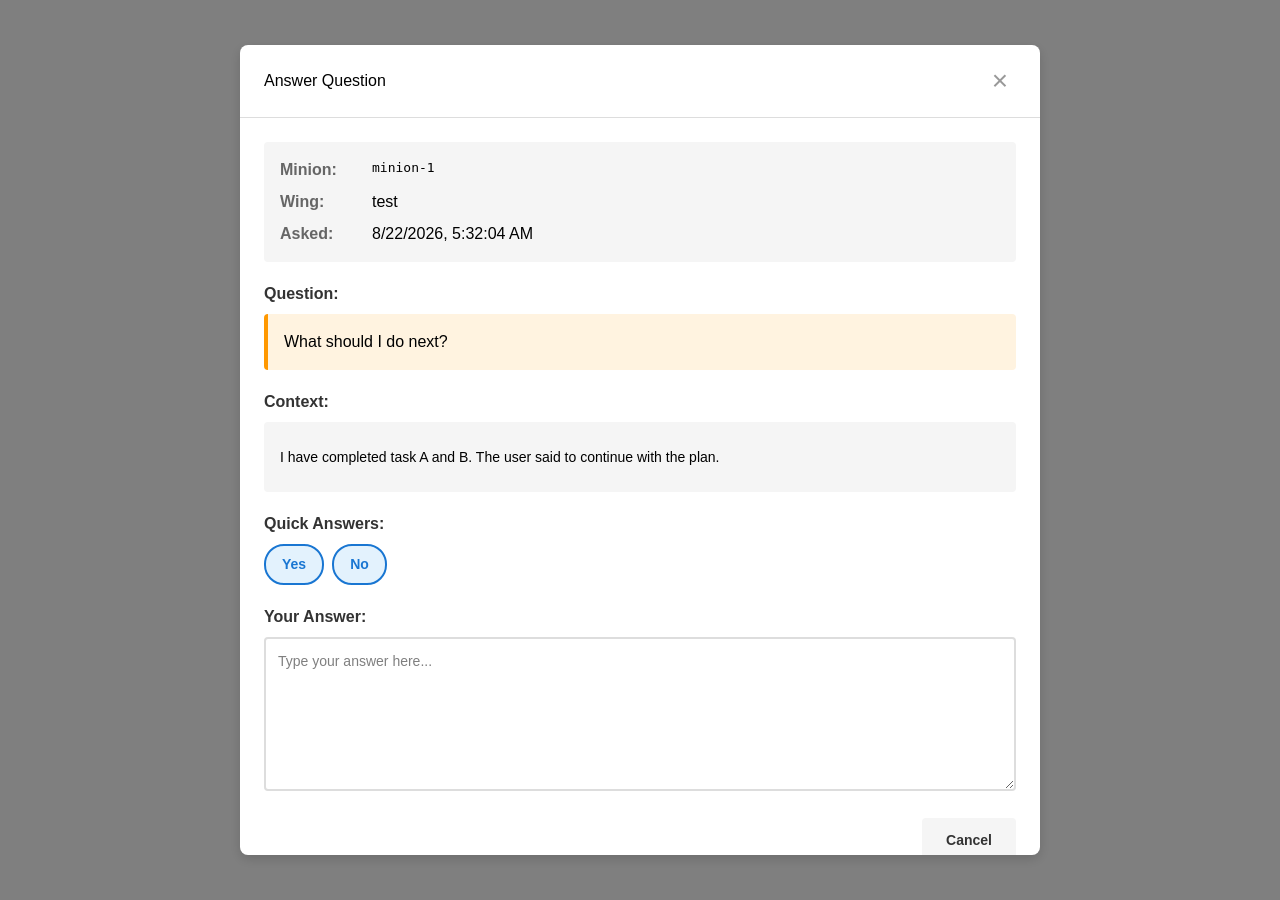
Test: QuestionDetail › shows submit button in exclusive mode when user types an answer
Type "My custom answer" into the text box with id "answer" at (640, 714), box [264,637,1016,791]
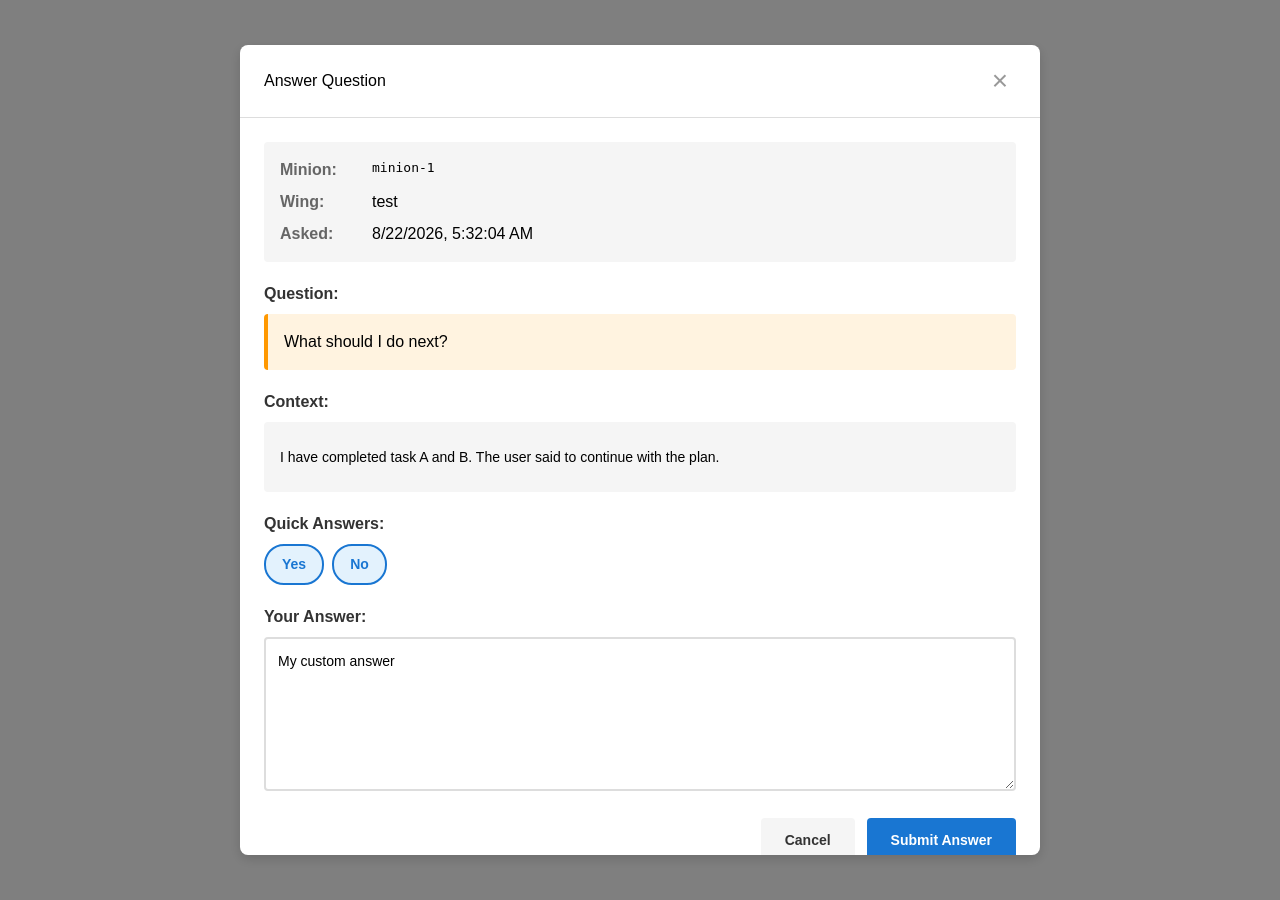
Result: the button with class "submit-btn" is shown at [867,818,1016,855]
